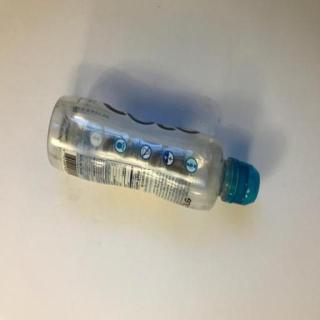Anorganik: (44, 98, 265, 216)
